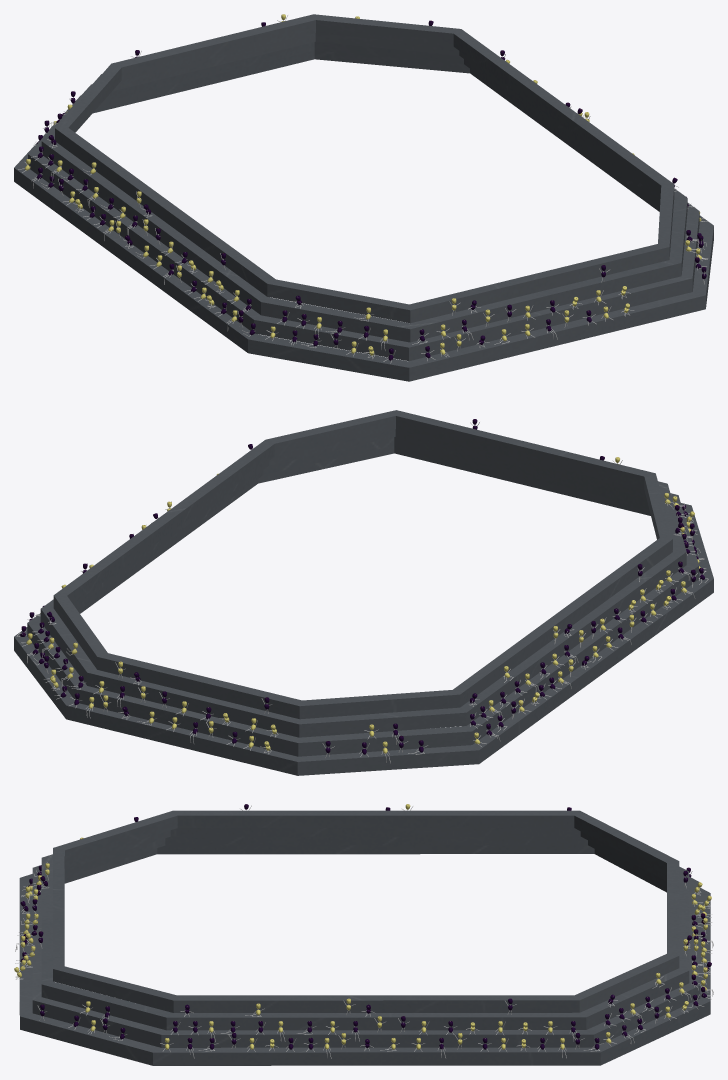
File: Tribuene.fbx
3 views of the same model, one above another, from view 1: azimuth 30°, elevation 25°; view 2: azimuth 150°, elevation 25°; view 3: azimuth 270°, elevation 25° (orthographic). The views are drawn at different scales.
Visible parts, largest first — view 1: Rad2.001; view 2: Rad2.001; view 3: Rad2.001.
Boxes of the visible parts, box(x1,y1,x2,y2) form: Rad2.001: box(14, 14, 713, 381); Rad2.001: box(14, 410, 713, 775); Rad2.001: box(14, 804, 713, 1065).
Bounding box in the file's own units: 1779 × 210 × 2409.
